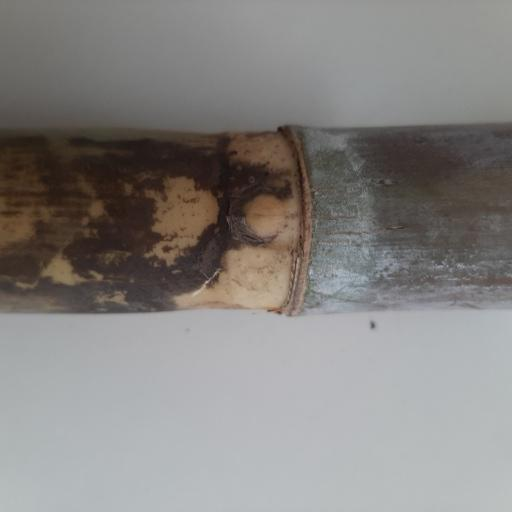Bud: (234, 191, 291, 241)
